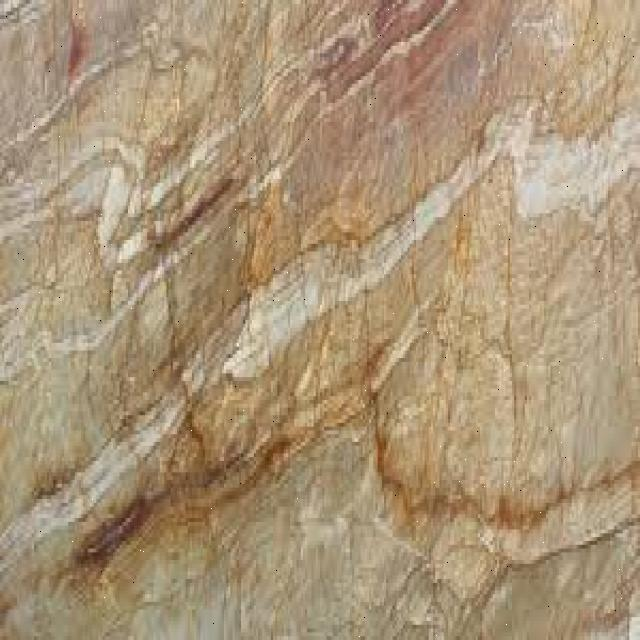Metamorphic: (2, 4, 634, 632)
